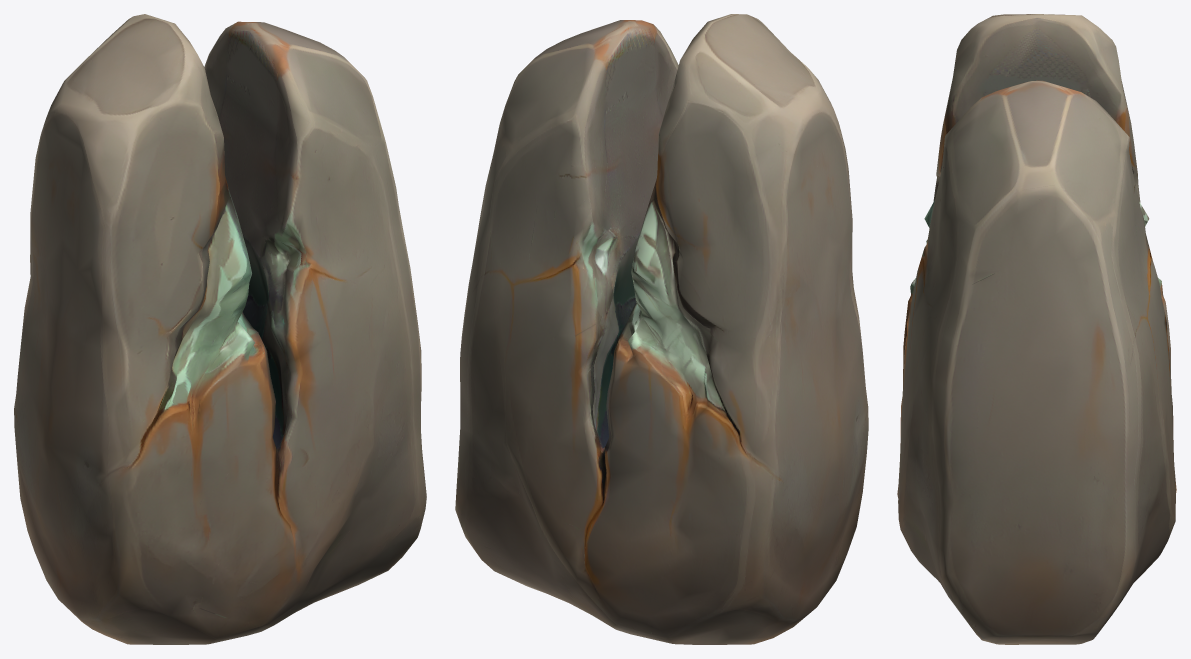
The picture shows the model from 3 angles, left to right: view 1: azimuth 30°, elevation 25°; view 2: azimuth 150°, elevation 25°; view 3: azimuth 270°, elevation 25°; orthographic projection. The views are drawn at different scales.
Bounding box in the file's own units: 1.17 × 2 × 0.8707.
Materials: 1 (1 with a texture image).
